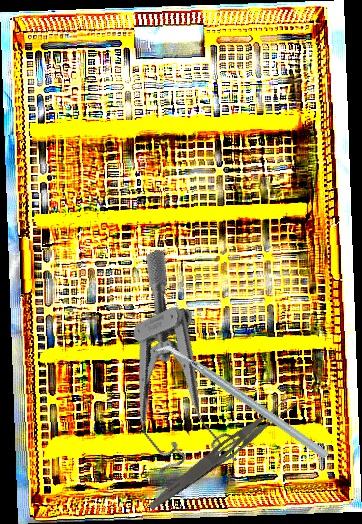Chopper: (151, 298, 332, 505)
Dressing Forceps: (145, 392, 299, 518)
Speculum: (74, 248, 256, 492)
